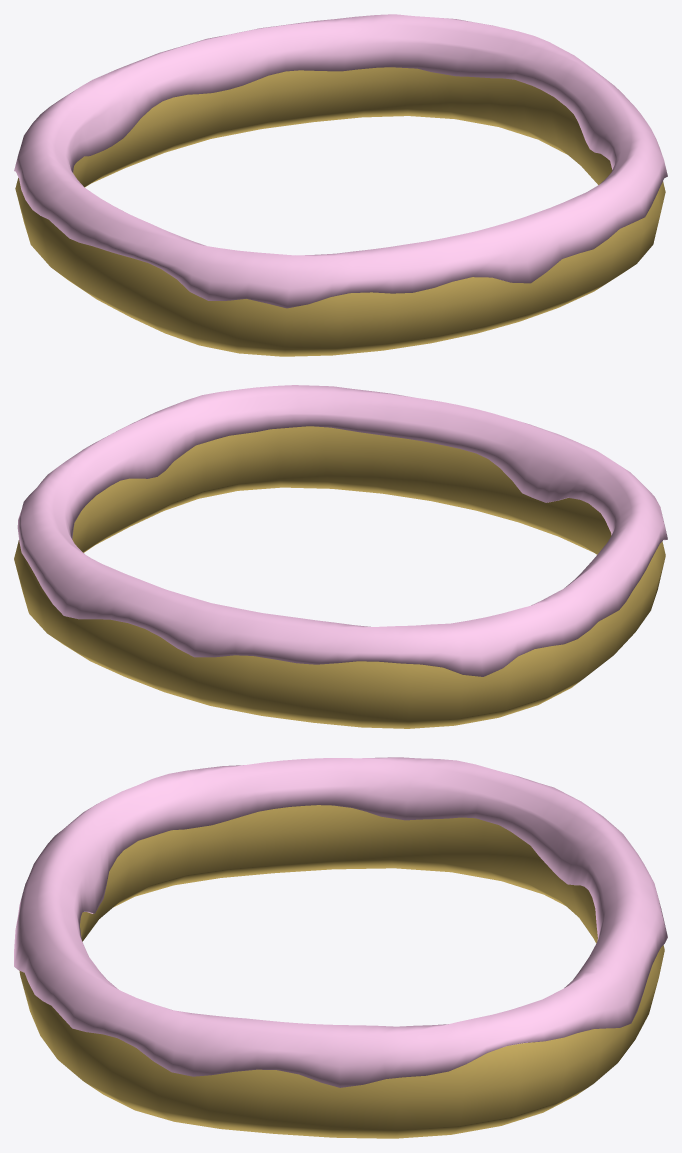
Rendered from Donut inflatable.fbx.
3 views of the same model, one above another, from view 1: azimuth 30°, elevation 25°; view 2: azimuth 150°, elevation 25°; view 3: azimuth 270°, elevation 25° (orthographic). The views are drawn at different scales.
Parts seen in each view (by area): view 1: Donut; view 2: Donut; view 3: Donut.
Part boxes in pixels (x1=…): Donut: x1=14, y1=14, x2=667, y2=356; Donut: x1=14, y1=385, x2=667, y2=728; Donut: x1=14, y1=757, x2=667, y2=1138.
Size of the model in its own units: 333 by 58.92 by 311.
